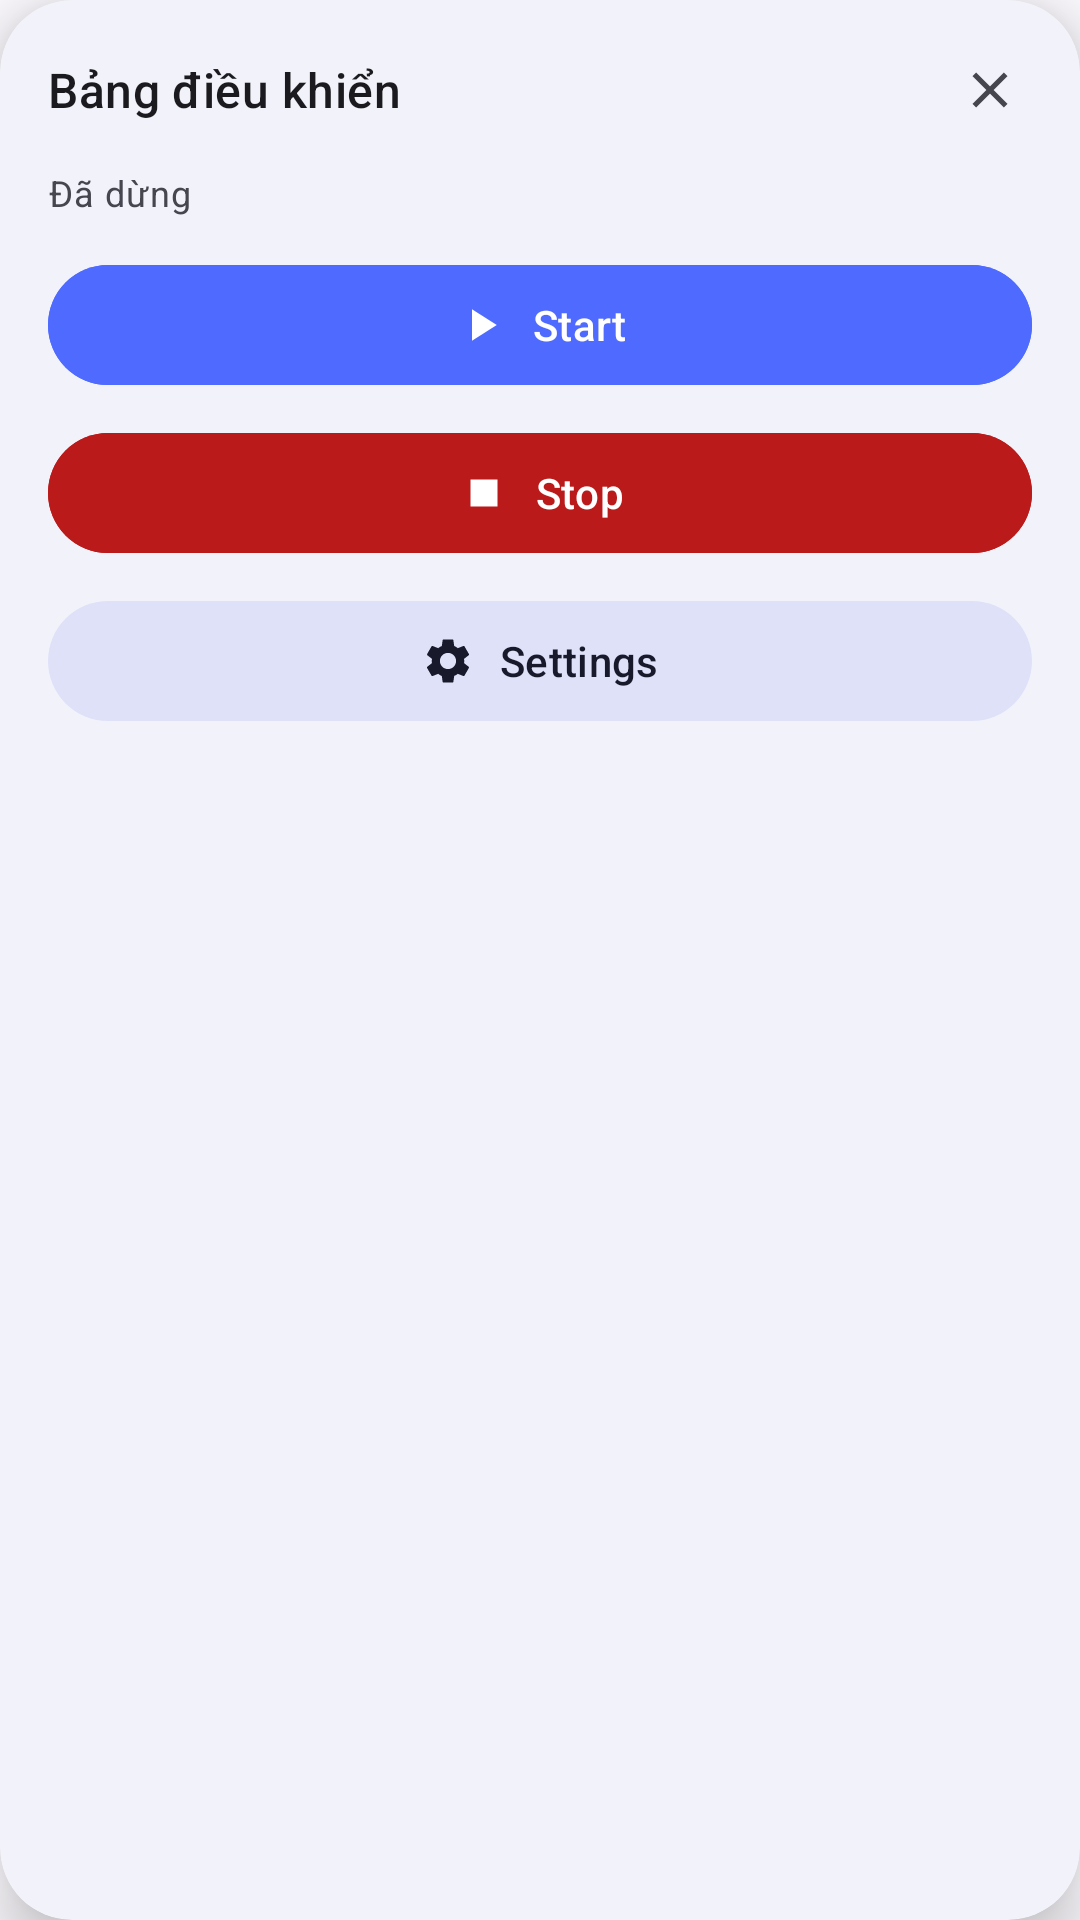

Icon bounding boxes for this 1080 x 1920 phone screenshot, format (x1, y1, x2, y2):
Đóng: (972, 72, 1008, 108)
